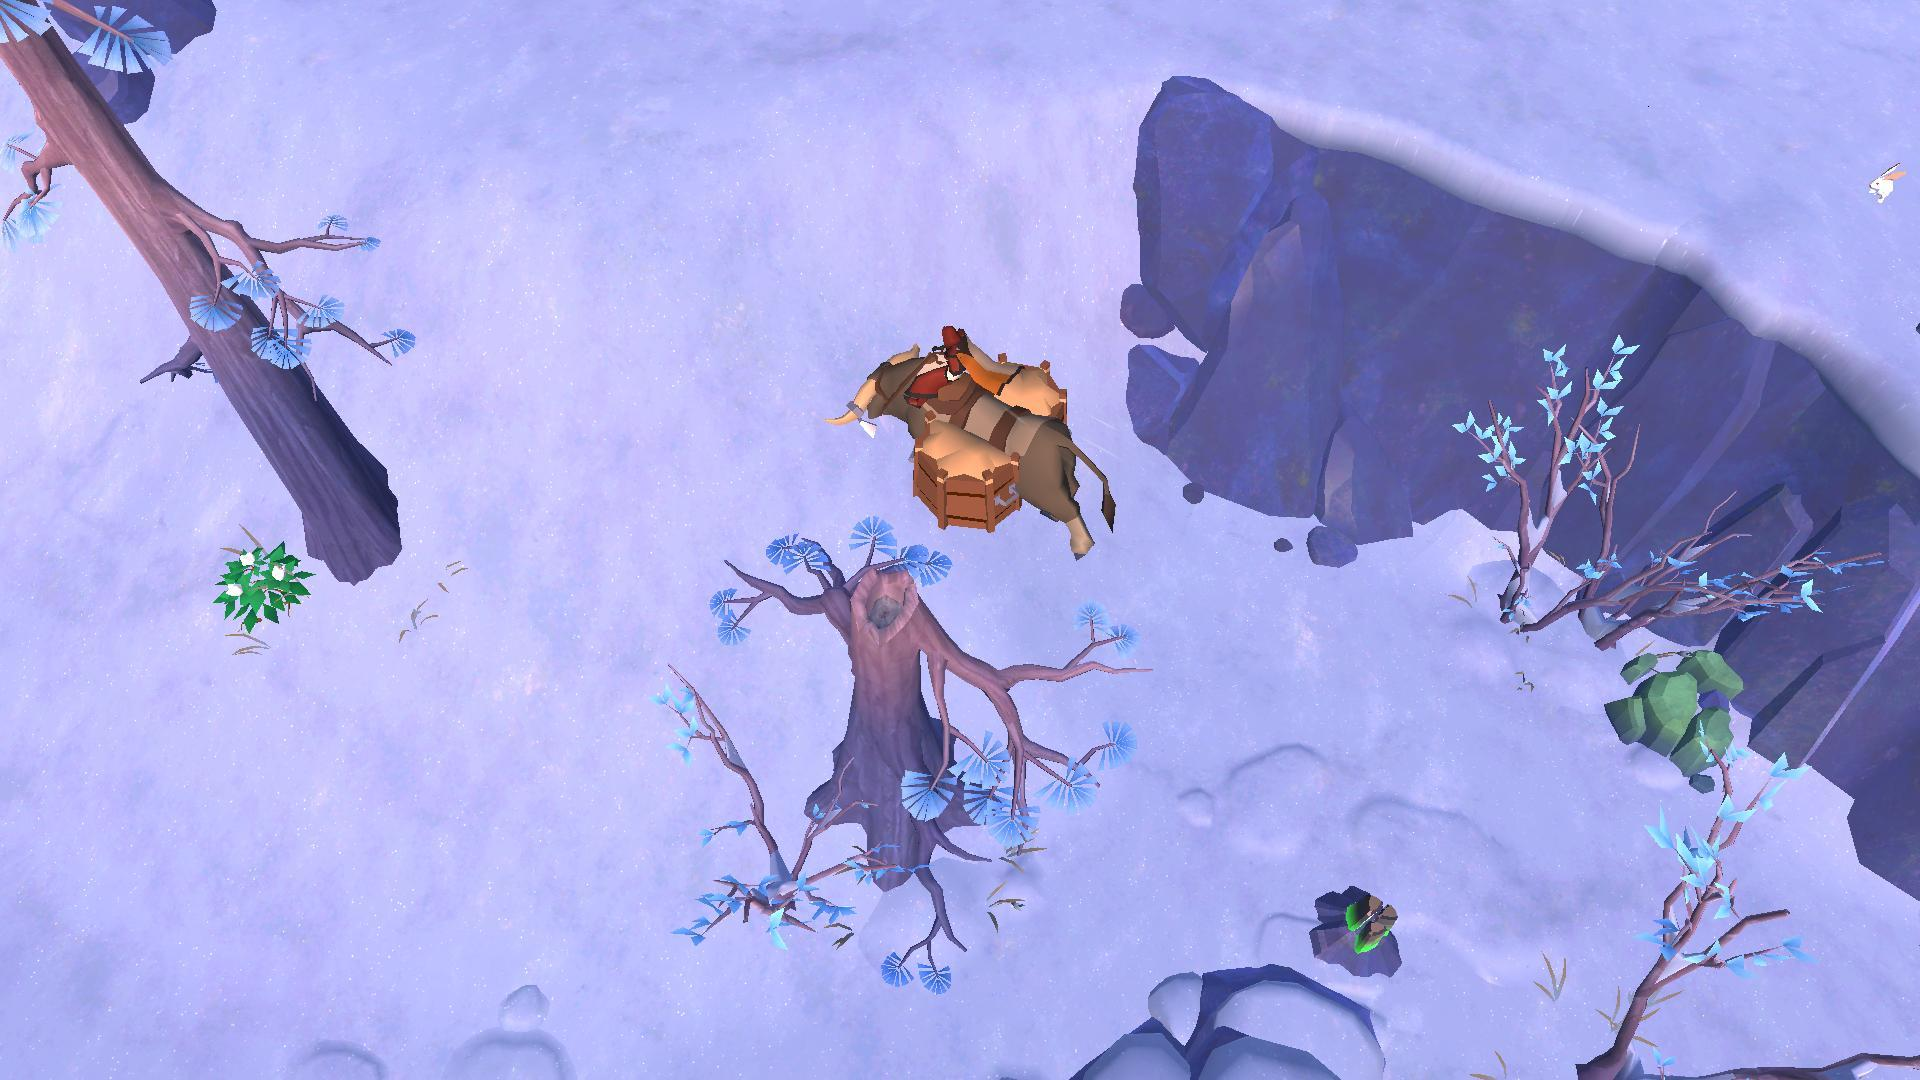fiber_t3: (202, 530, 305, 632)
ore_t3: (1335, 886, 1402, 965)
rock_t3: (1605, 632, 1742, 785)
